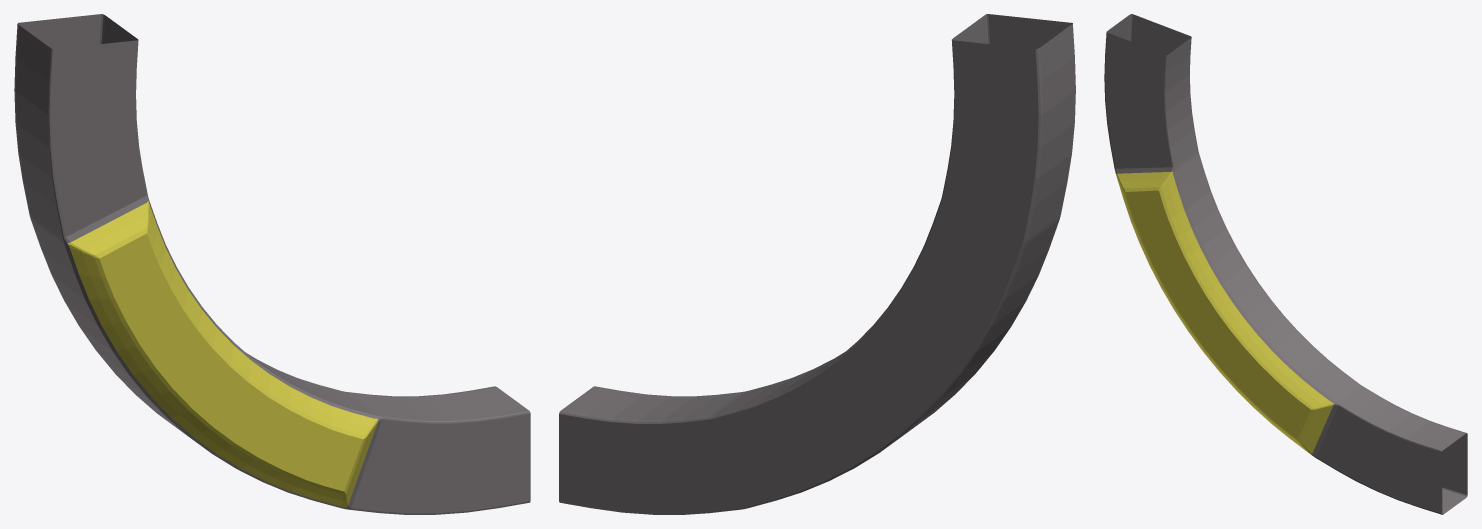
Rendered from GoalBarrier_25.fbx.
3 renders of one model, left to right at view 1: azimuth 30°, elevation 25°; view 2: azimuth 150°, elevation 25°; view 3: azimuth 330°, elevation 25°, orthographic. The views are drawn at different scales.
Parts seen in each view (by area): view 1: GoalBarrier.25; view 2: GoalBarrier.25; view 3: GoalBarrier.25.
Boxes of the visible parts, x1,y1,x2,y2 form: GoalBarrier.25: (14, 14, 530, 514); GoalBarrier.25: (559, 14, 1075, 514); GoalBarrier.25: (1104, 14, 1467, 514).
Bounding box in the file's own units: 242 × 274 × 39.73.
